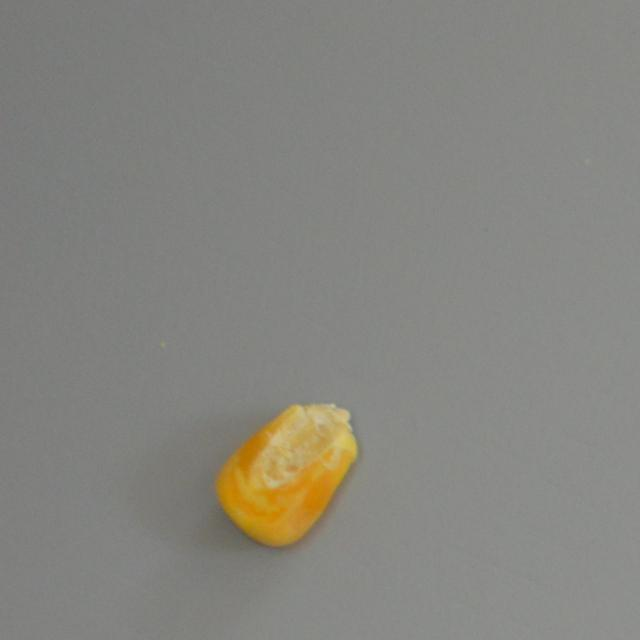entero: (208, 396, 362, 552)
